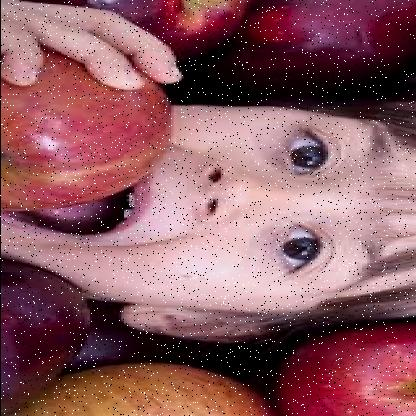apple: (3, 37, 164, 217), (220, 0, 403, 84), (2, 264, 96, 402), (55, 357, 267, 415), (288, 317, 414, 410)
